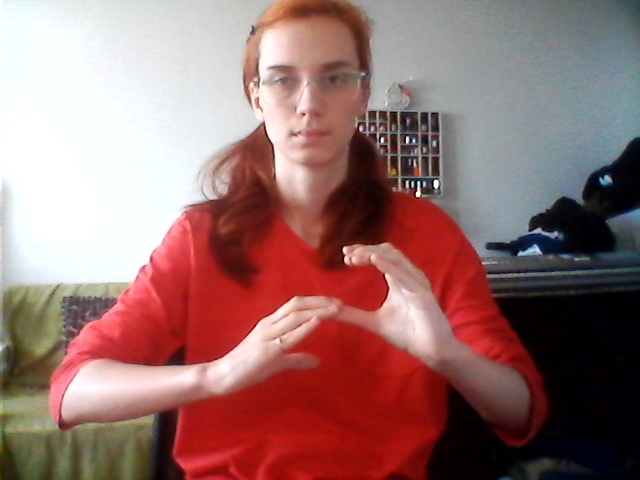s: (206, 216, 461, 395)
